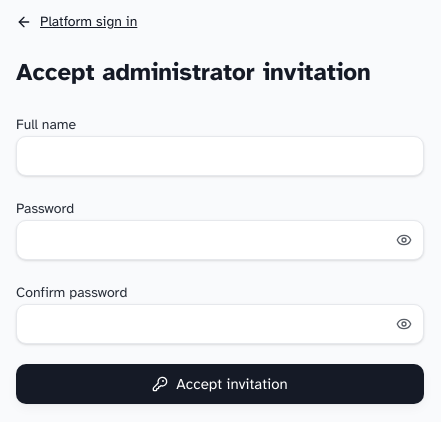
it: platform invitation page composition › exposes explicit recovery when a well-formed link has expired, without automatic resend
The width and height of the screenshot is (441, 422).
Type "Invitee" into the field labelled "Full name" at (220, 156), box [16,136,424,176]
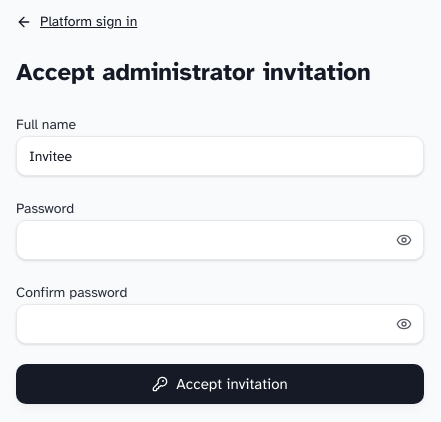
Type "form-input" into the password field labelled "Password" at (220, 240), box [16,220,424,260]
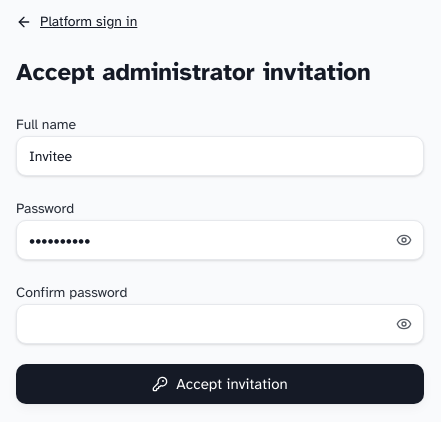
Type "form-input" into the password field labelled "Confirm password" at (220, 324), box [16,304,424,344]
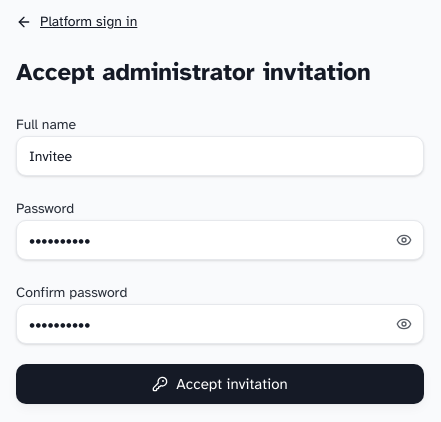
Submit the form "Accept invitation"
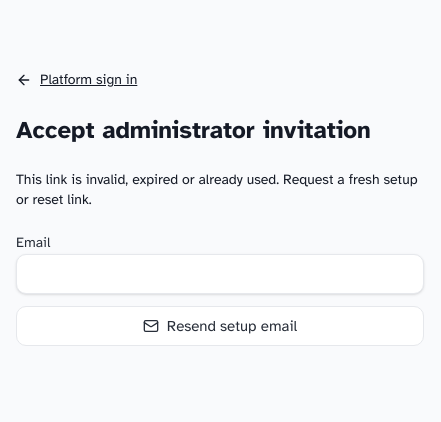
Check: the form "Resend setup email" is shown, box [16,230,424,346]
